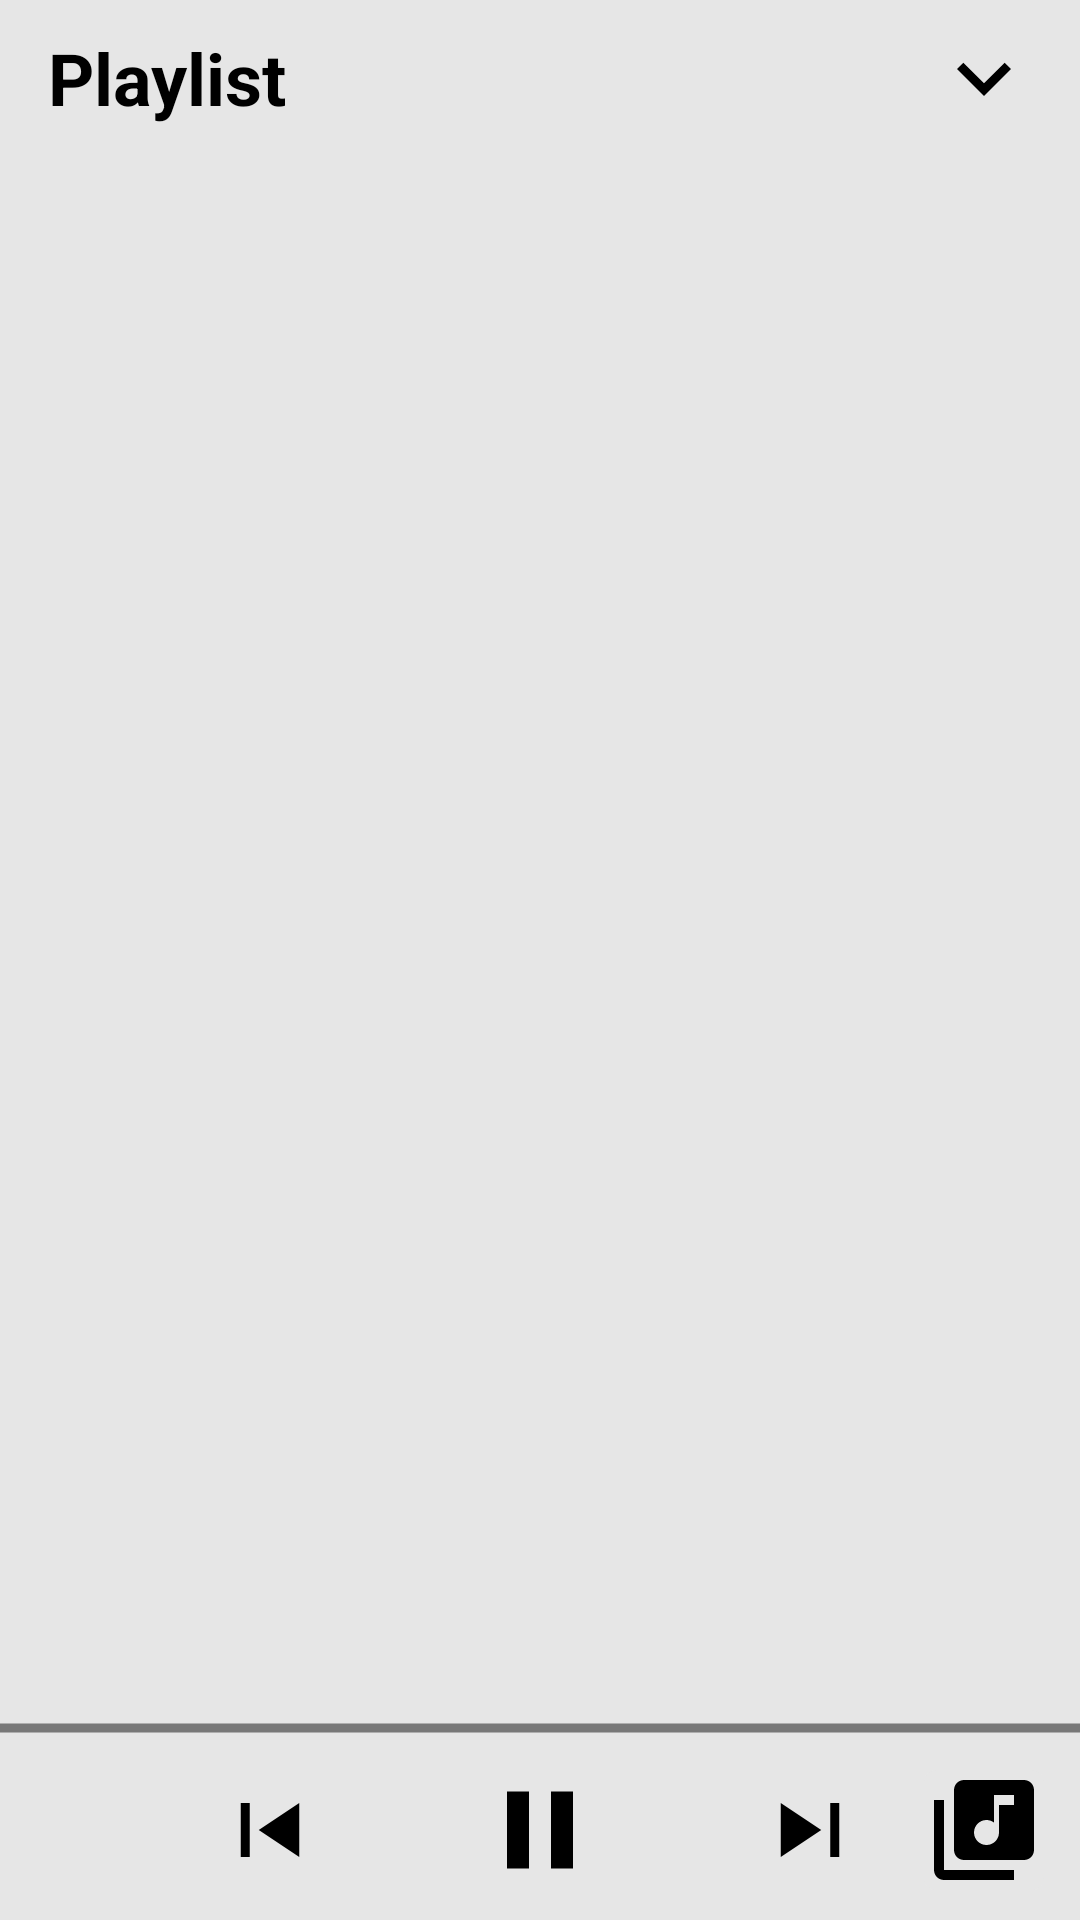

Icons on this 1080 × 1920 Android screen, each with the point to tap as point (x, y):
keyboard arrow down: point (984, 79)
library music: point (984, 1830)
pause: point (540, 1830)
skip next: point (810, 1830)
skip previous: point (270, 1830)
